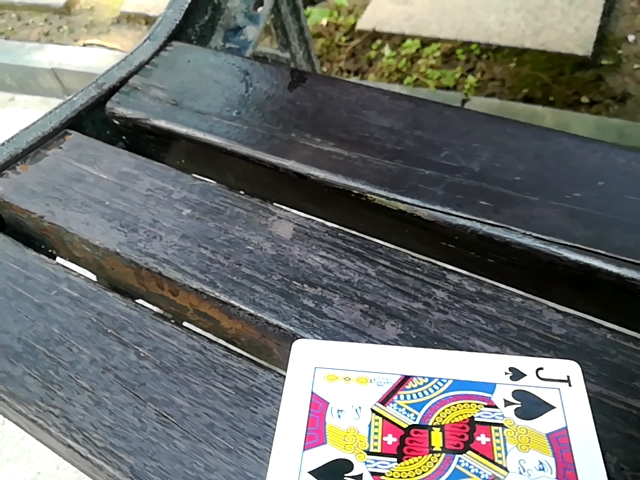ht j: (251, 343, 618, 480)
